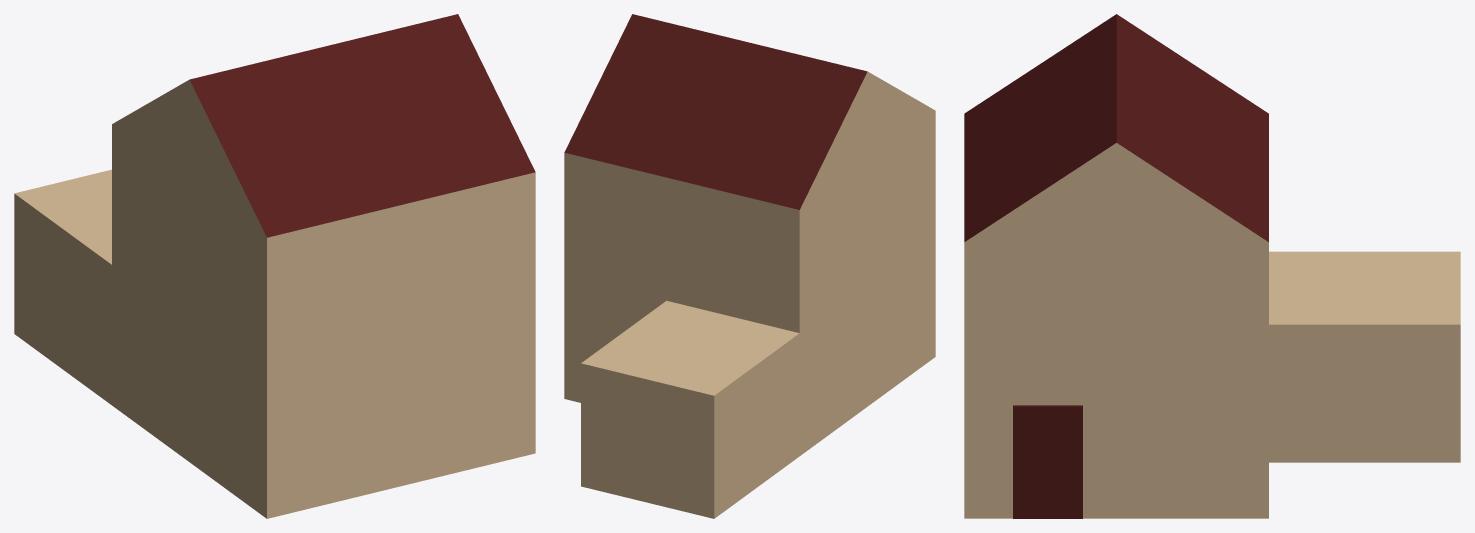
The model's file is SimpleHouseModel.fbx.
The picture shows the model from 3 angles, left to right: view 1: azimuth 30°, elevation 25°; view 2: azimuth 150°, elevation 25°; view 3: azimuth 270°, elevation 25°; orthographic projection. The views are drawn at different scales.
Visible parts, largest first — view 1: Cube; view 2: Cube; view 3: Cube.
Boxes of the visible parts, <box> form: Cube: <box>14,14,535,518</box>; Cube: <box>564,14,935,518</box>; Cube: <box>964,14,1460,518</box>.
Bounding box in the file's own units: 202 × 272 × 326.
